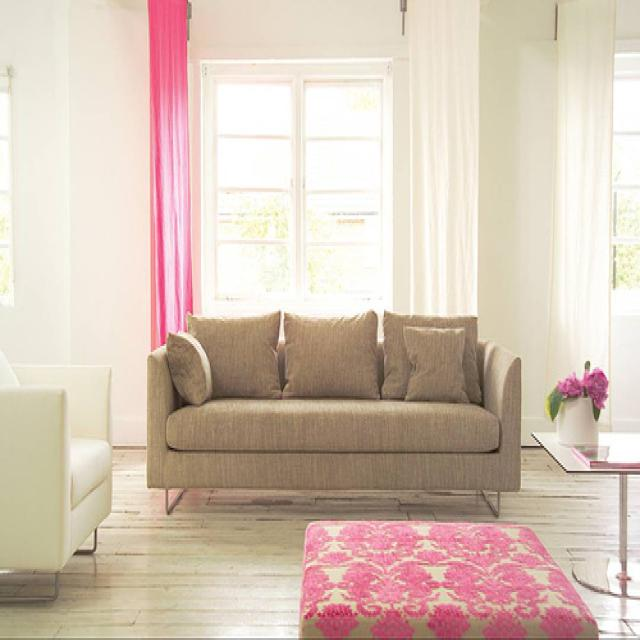chair: (1, 351, 114, 603)
pottedplant: (545, 360, 609, 447)
sofa: (147, 310, 522, 518)
